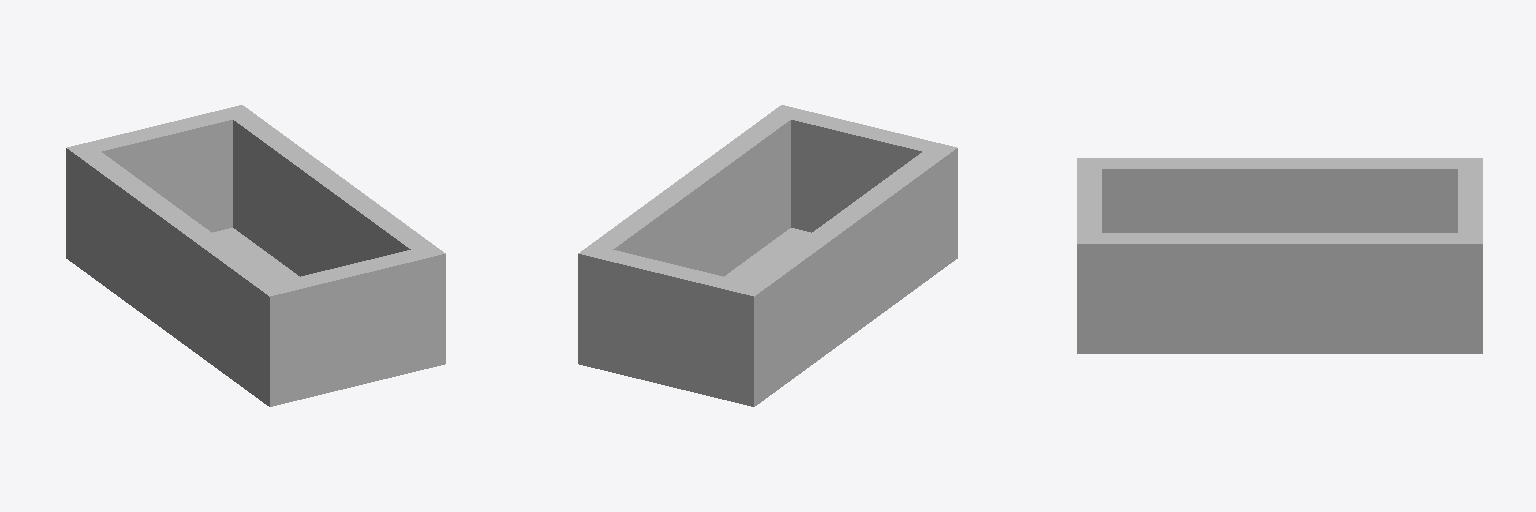
The model's file is fondo.obj.
3 views of the same model, side by side, from view 1: azimuth 30°, elevation 25°; view 2: azimuth 150°, elevation 25°; view 3: azimuth 270°, elevation 25° (orthographic).
Visible parts, largest first — view 1: P_SueloVacio; view 2: P_SueloVacio; view 3: P_SueloVacio.
Boxes of the visible parts, x1,y1,x2,y2 form: P_SueloVacio: [66, 105, 445, 406]; P_SueloVacio: [578, 105, 957, 406]; P_SueloVacio: [1077, 158, 1482, 353].
Bounding box in the file's own units: 5 × 3 × 10.